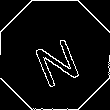N_N: (27, 24, 83, 86)
